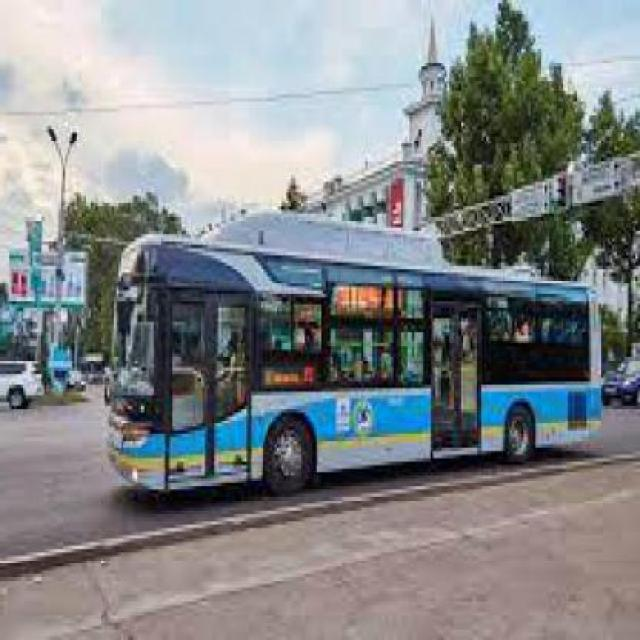bus: (109, 205, 606, 495)
